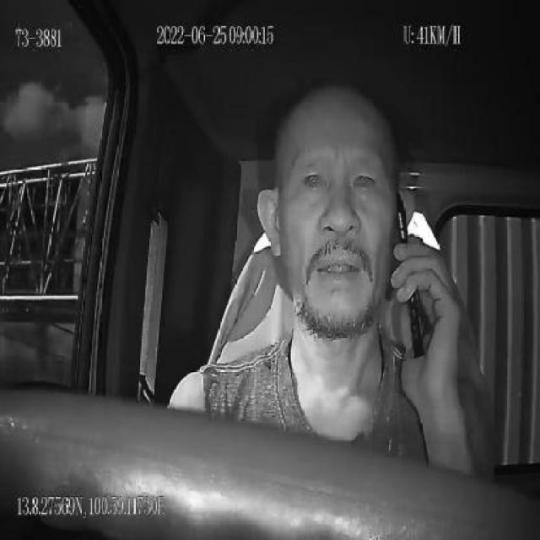phone: (393, 192, 426, 365)
